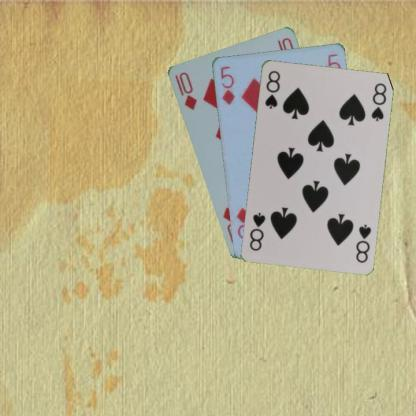10d: (172, 70, 198, 112)
5d: (218, 63, 236, 106)
8s: (262, 67, 282, 110), (353, 221, 372, 264)
